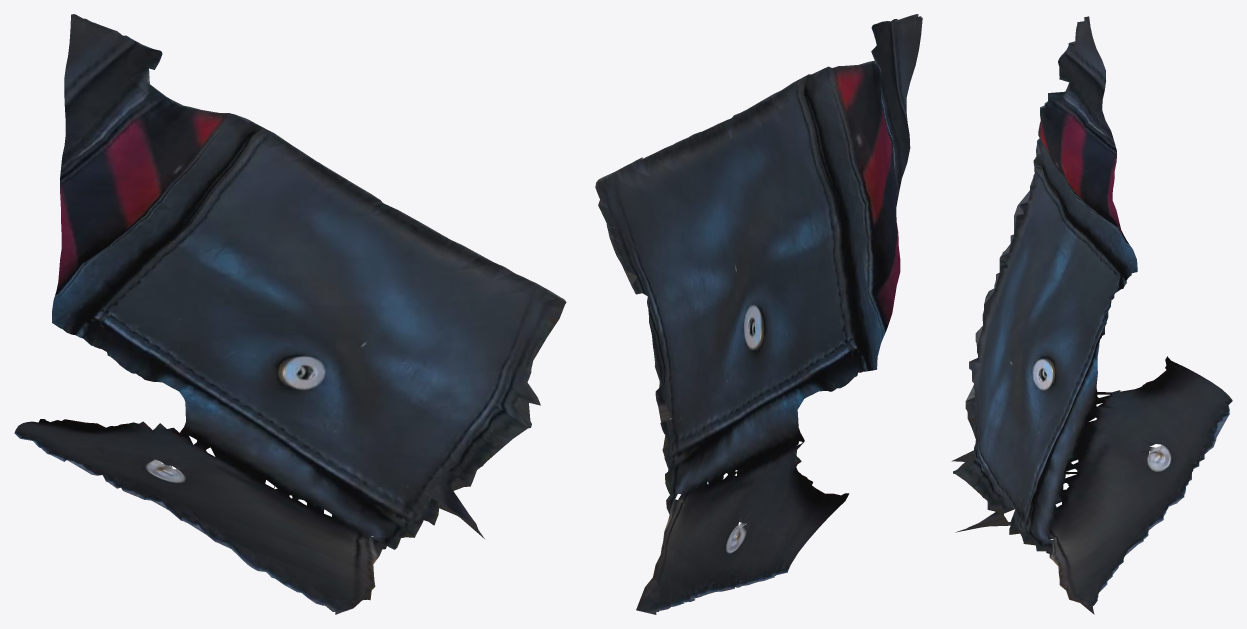
File: observed-surface.glb
3 views of the same model, side by side, from view 1: azimuth 30°, elevation 25°; view 2: azimuth 150°, elevation 25°; view 3: azimuth 270°, elevation 25° (orthographic). The views are drawn at different scales.
Parts seen in each view (by area): view 1: geometry_0; view 2: geometry_0; view 3: geometry_0.
Part boxes in pixels (<box>): geometry_0: <box>14,14,566,614</box>; geometry_0: <box>595,14,922,614</box>; geometry_0: <box>951,16,1232,614</box>.
Size of the model in its own units: 0.4468 by 0.6902 by 0.3537.
Materials: 1 (1 with a texture image).
